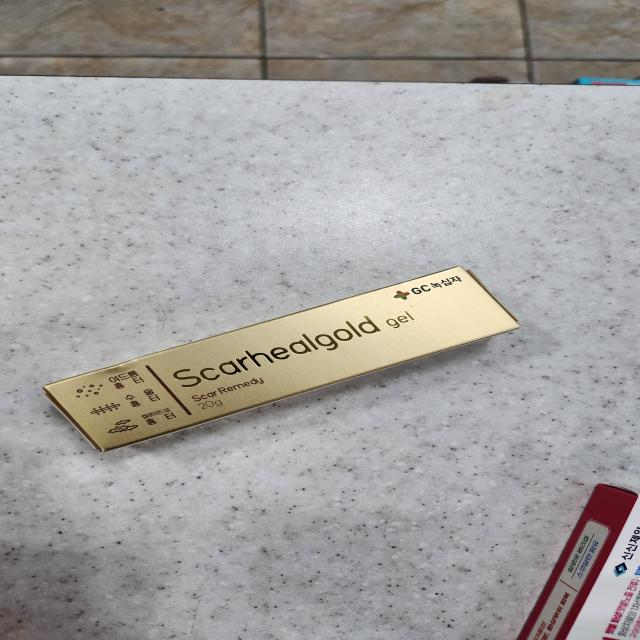box: (46, 268, 520, 452)
